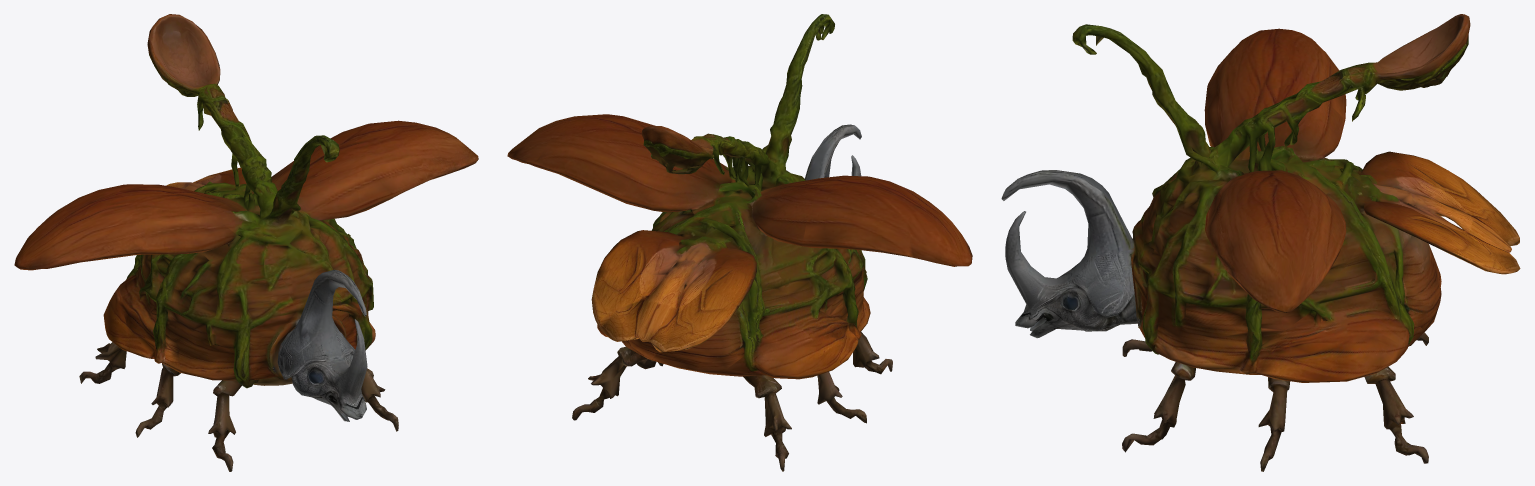
3 renders of one model, left to right at view 1: azimuth 30°, elevation 25°; view 2: azimuth 150°, elevation 25°; view 3: azimuth 270°, elevation 25°, orthographic. The views are drawn at different scales.
Visible parts, largest first — view 1: tripo_node_6dc1d2bb-4fa5-495d-85b6-4c3fe3779c31; view 2: tripo_node_6dc1d2bb-4fa5-495d-85b6-4c3fe3779c31; view 3: tripo_node_6dc1d2bb-4fa5-495d-85b6-4c3fe3779c31.
Part boxes in pixels (bbox=[...]): tripo_node_6dc1d2bb-4fa5-495d-85b6-4c3fe3779c31: bbox=[14, 14, 478, 471]; tripo_node_6dc1d2bb-4fa5-495d-85b6-4c3fe3779c31: bbox=[507, 14, 972, 471]; tripo_node_6dc1d2bb-4fa5-495d-85b6-4c3fe3779c31: bbox=[1001, 14, 1520, 471].
Size of the model in its own units: 0.9994 by 0.6881 by 0.8337.
Materials: 1 (1 with a texture image).
